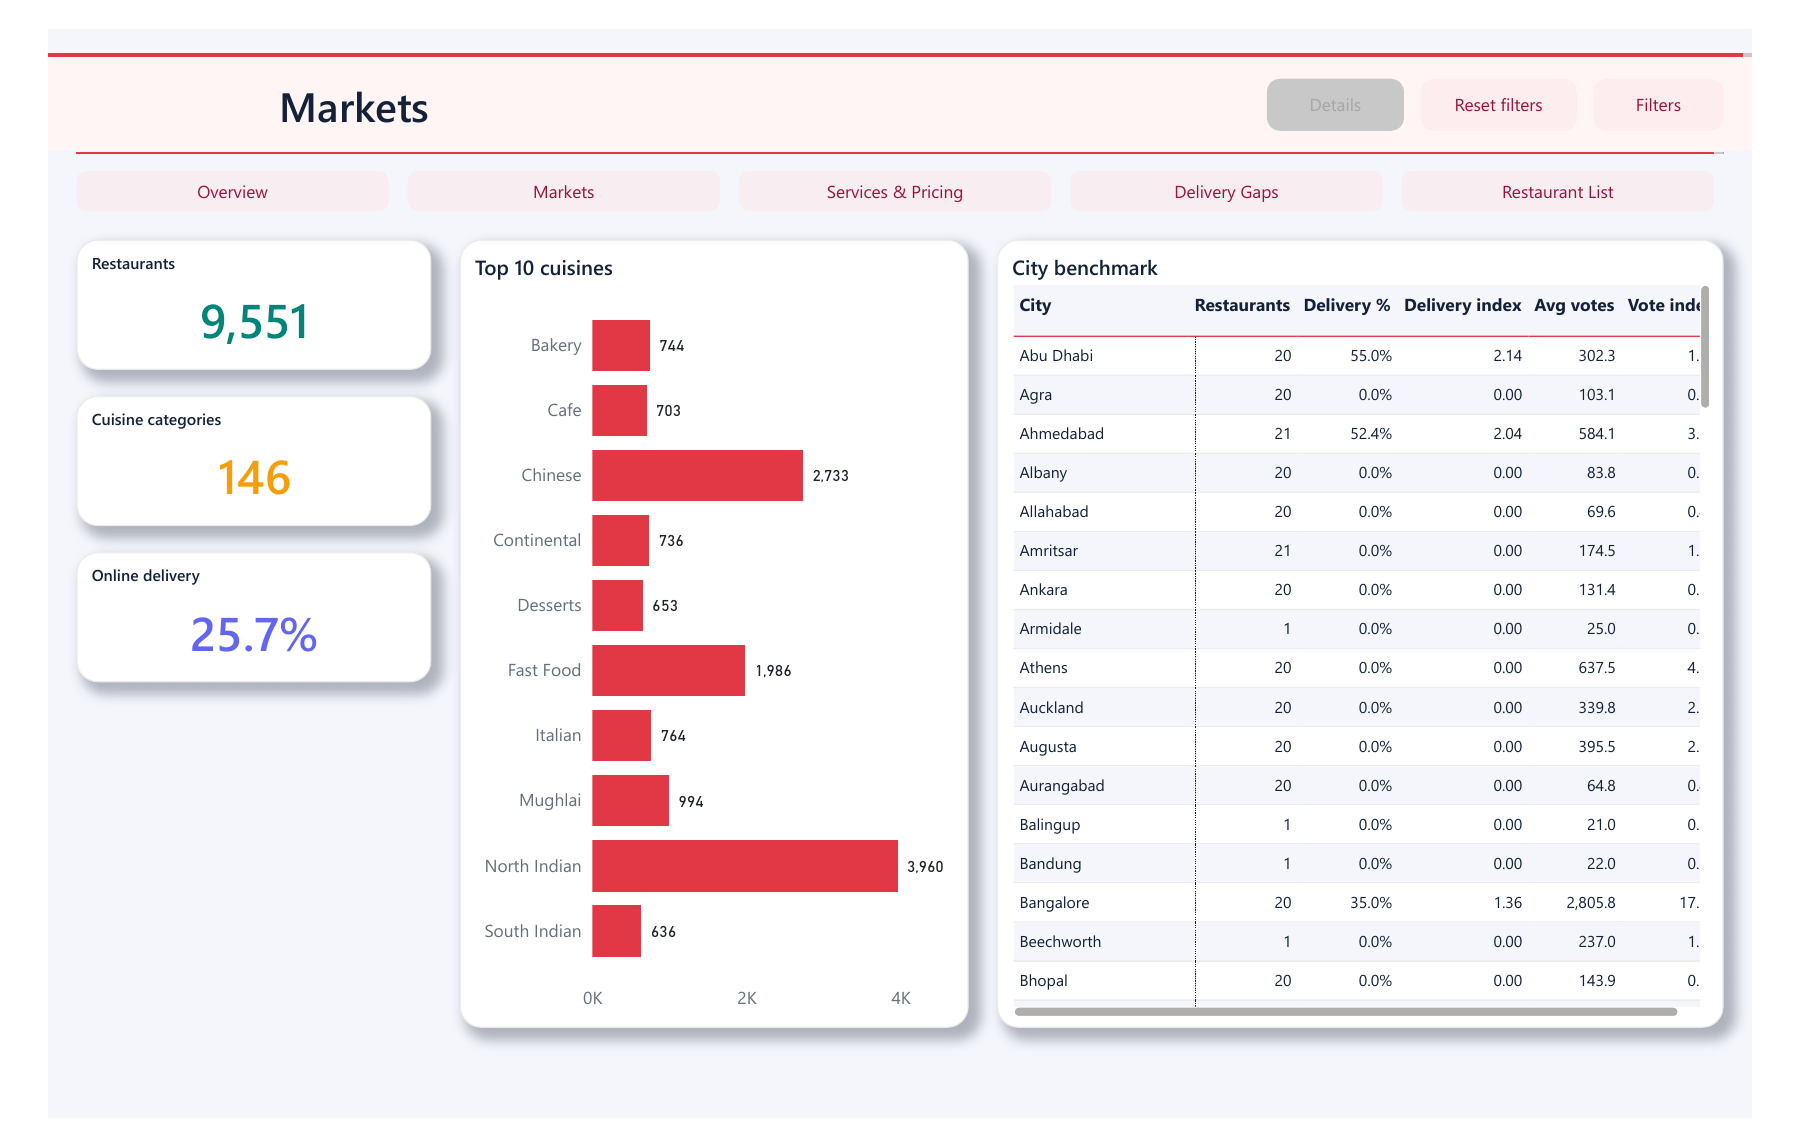

What the dashboard file says about the page in this screenshot:
{"tool":"powerbi","page":{"name":"Markets","canvas":[1440,900],"ordinal":1},"visuals":[{"type":"textbox","box":[0,0,1440,4],"z":0},{"type":"textbox","box":[0,4,1440,78],"z":0},{"type":"textbox","box":[24,84,1392,2],"z":0},{"type":"textbox","box":[196,22,816,48],"z":100},{"type":"card","title":"Restaurants","fields":{"Values":["zomato.Listings"]},"box":[24,158,300,110],"z":105},{"type":"card","title":"Cuisine categories","fields":{"Values":["zomato.Cuisine Types"]},"box":[24,290,300,110],"z":106},{"type":"card","title":"Online delivery","fields":{"Values":["zomato.Delivery Coverage"]},"box":[24,422,300,110],"z":107},{"type":"clusteredBarChart","title":"Top 10 cuisines","fields":{"Category":["RestaurantCuisine.Cuisine"],"Y":["zomato.Cuisine Top 10"]},"box":[348,158,430,666],"z":108},{"type":"tableEx","title":"City benchmark","fields":{"Values":["zomato.City","zomato.Listings","zomato.Delivery Coverage","zomato.City Delivery Coverage Index","zomato.Votes per Listing","zomato.City Vote Engagement Index"]},"box":[802,158,614,666],"z":109},{"type":"actionButton","box":[1030,22,116,44],"z":5000},{"type":"actionButton","box":[1160,22,132,44],"z":5000},{"type":"actionButton","box":[1306,22,110,44],"z":5000},{"type":"actionButton","box":[24,100,264,34],"z":5000},{"type":"actionButton","box":[304,100,264,34],"z":5000},{"type":"actionButton","box":[584,100,264,34],"z":5000},{"type":"actionButton","box":[864,100,264,34],"z":5000},{"type":"actionButton","box":[1144,100,264,34],"z":5000}]}

Visuals, with their boxes in screenshot pixels (x1, y1, x2, y2), scaled from the page's 1440x900 canvas onto the 1800x1147 screenshot:
textbox: 0/0/1799/5
textbox: 0/5/1799/105
textbox: 30/107/1770/110
textbox: 245/28/1265/89
"Restaurants" card: 30/201/405/342
"Cuisine categories" card: 30/370/405/510
"Online delivery" card: 30/538/405/678
"Top 10 cuisines" clusteredBarChart: 435/201/972/1050
"City benchmark" tableEx: 1002/201/1770/1050
actionButton: 1288/28/1432/84
actionButton: 1450/28/1615/84
actionButton: 1632/28/1770/84
actionButton: 30/127/360/171
actionButton: 380/127/710/171
actionButton: 730/127/1060/171
actionButton: 1080/127/1410/171
actionButton: 1430/127/1760/171
